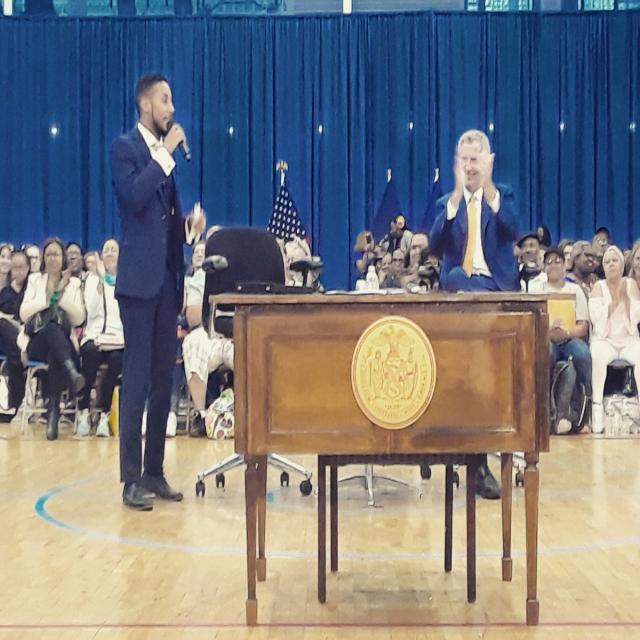body: (105, 67, 198, 515), (426, 127, 523, 500), (19, 235, 86, 442), (273, 217, 444, 294), (528, 243, 595, 438), (180, 240, 234, 438), (586, 243, 640, 436), (76, 235, 125, 440), (36, 238, 90, 422), (513, 223, 640, 292), (139, 311, 187, 437), (0, 250, 34, 420), (177, 239, 206, 331), (0, 241, 13, 294), (23, 242, 44, 274), (83, 251, 100, 270)
